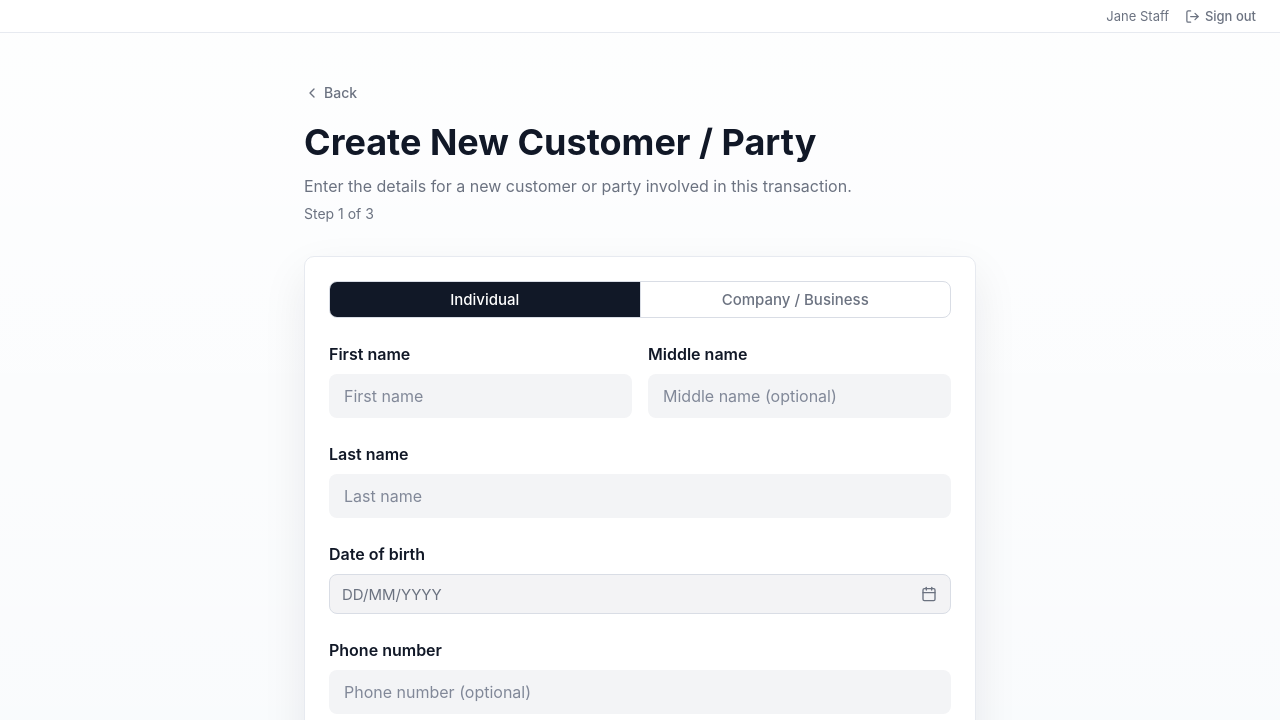
CreateCustomerPage › company: shows a validation error when ABN/ACN is empty
Click the button "Company / Business" at point(795, 300), box [640,282,950,317]
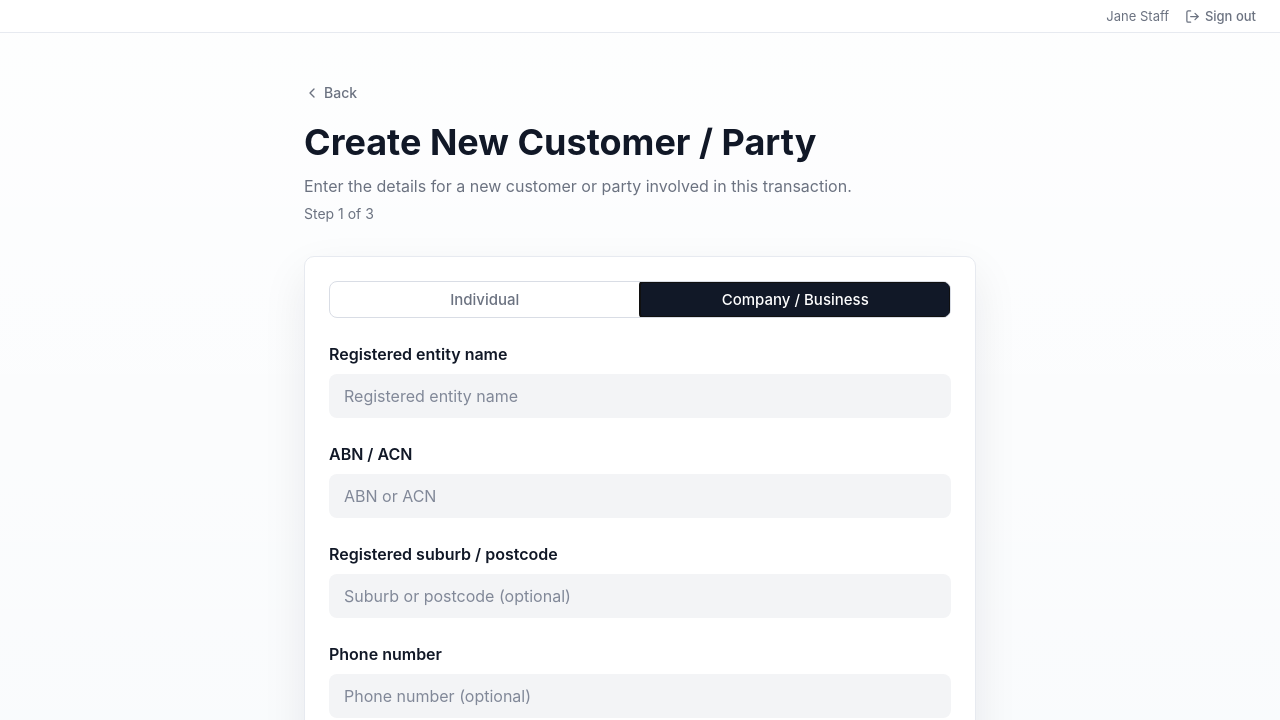
Type "Acme Pty Ltd" into the field labelled "Registered entity name" at point(640, 396), box [329,374,951,418]
(page scrolled)
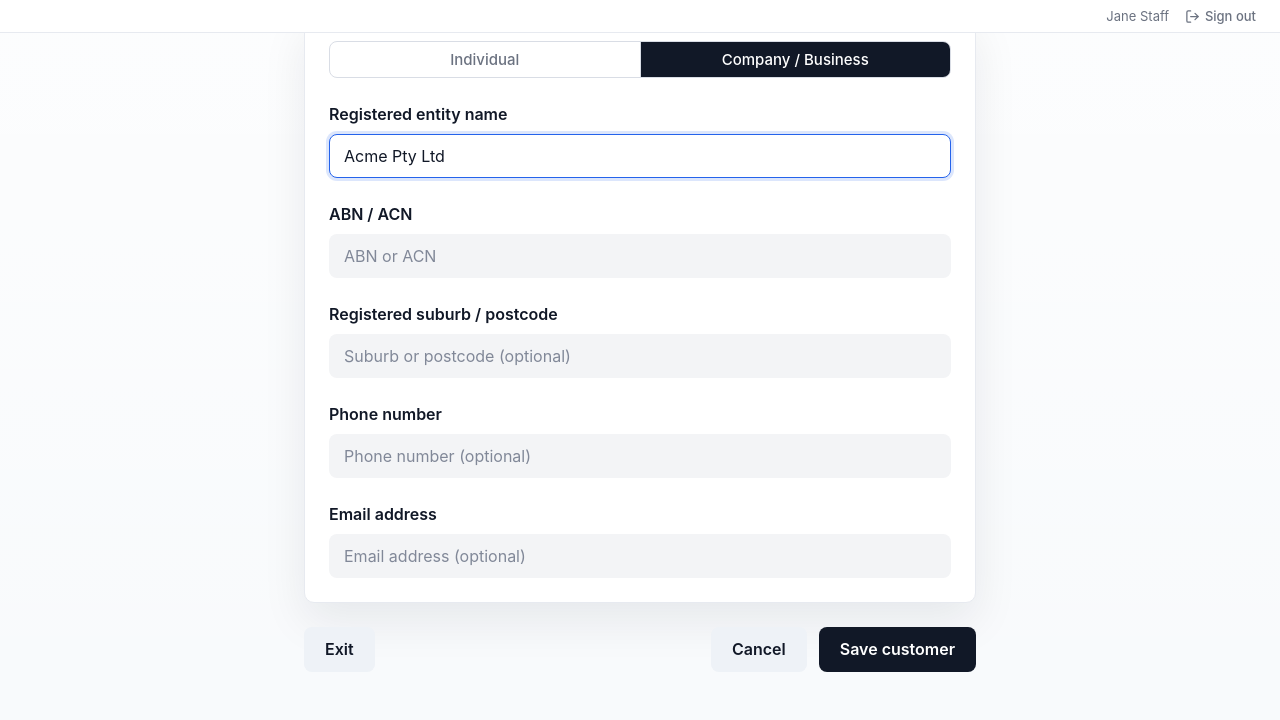
Click the button "Save customer" at point(897, 650), box [819,627,976,672]
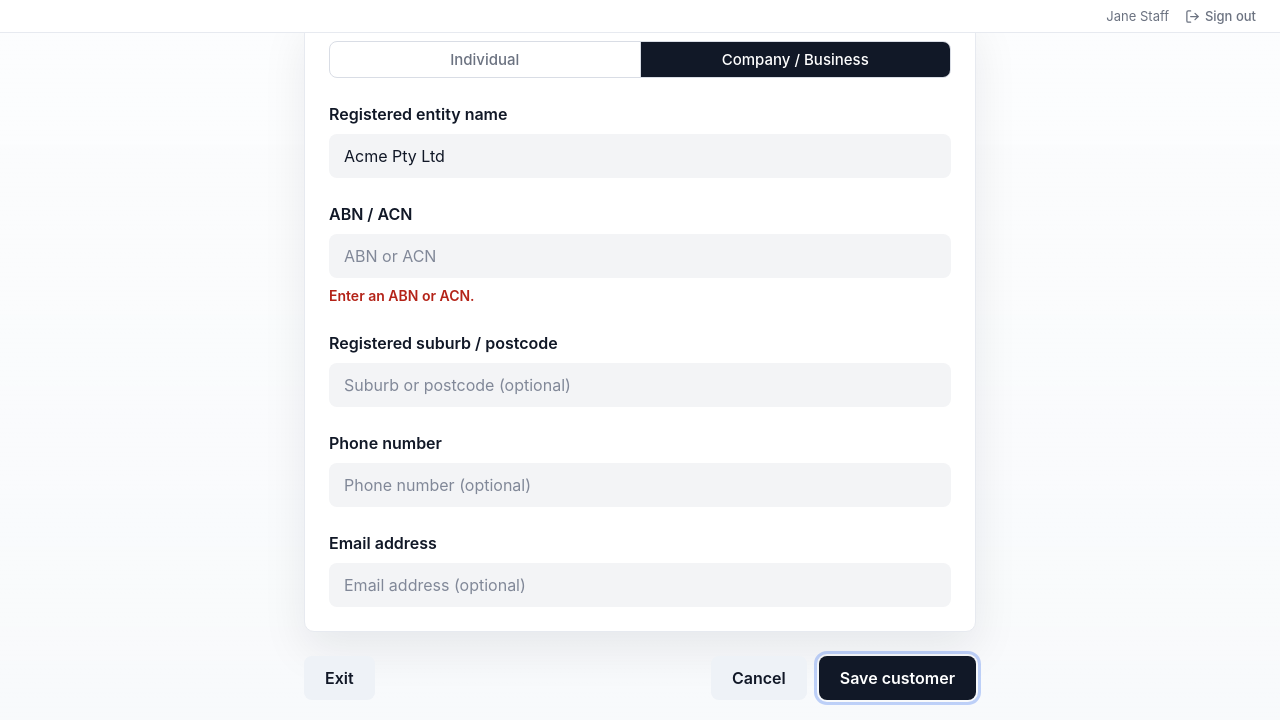
expect the text "Enter an ABN or ACN." is shown: met, box [329,287,475,304]
